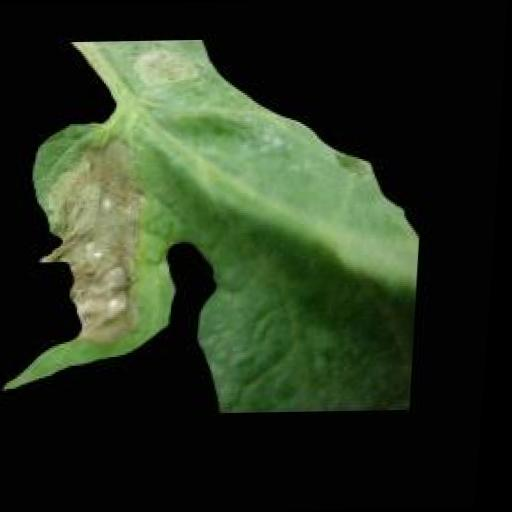Late Blight: (3, 34, 438, 419)
